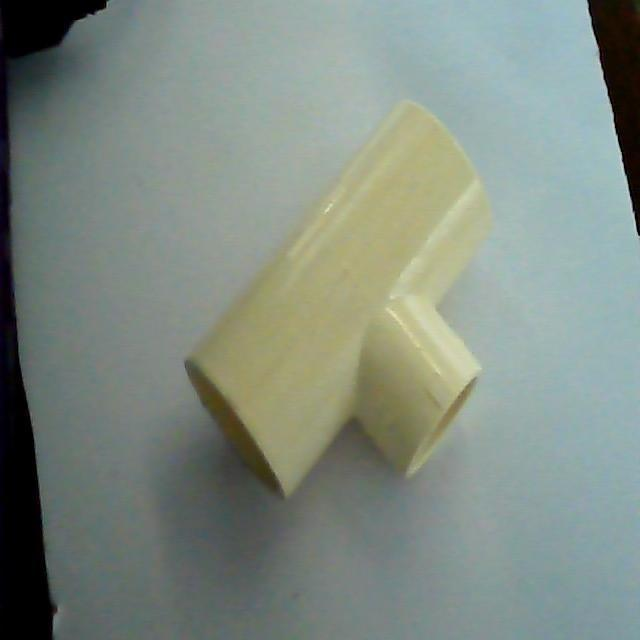T Joint: (183, 100, 495, 502)
